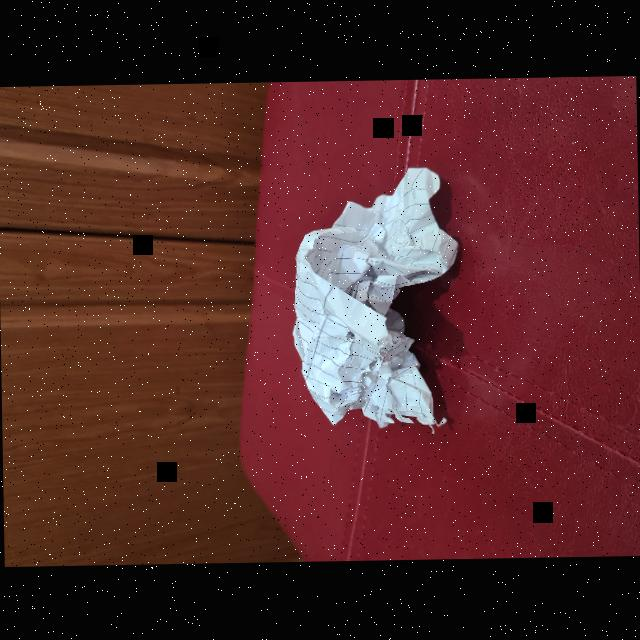scrap_paper: (290, 170, 462, 428)
